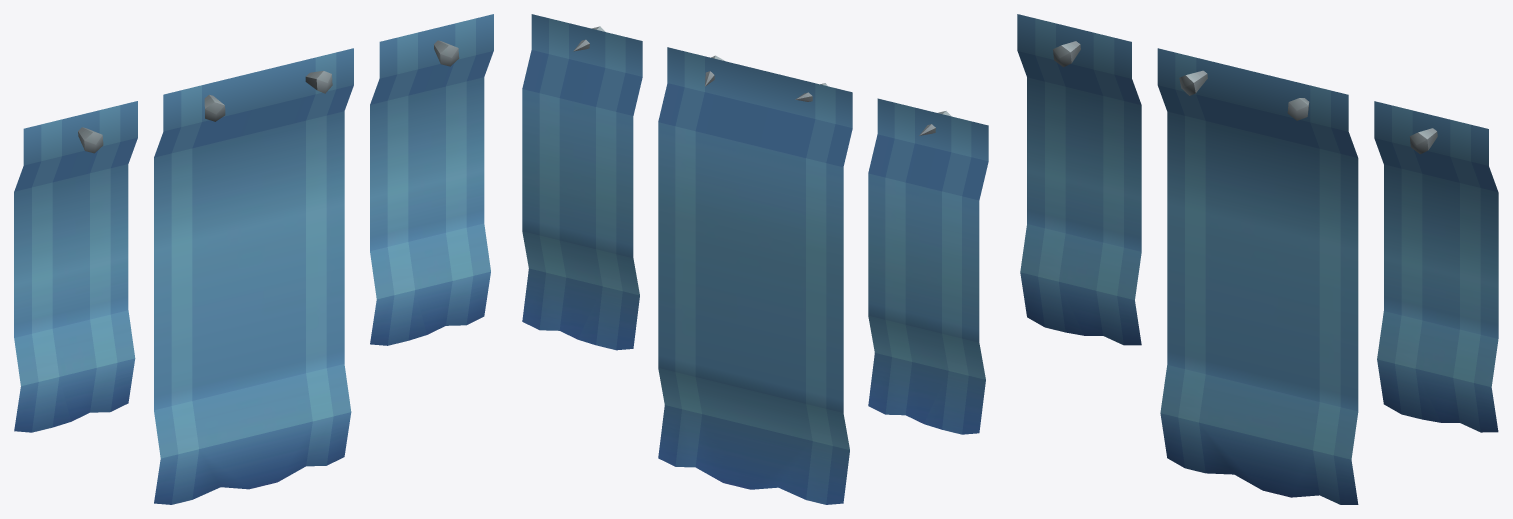
Rendered from banner_triple_blue.glb.
3 views of the same model, side by side, from view 1: azimuth 30°, elevation 25°; view 2: azimuth 150°, elevation 25°; view 3: azimuth 330°, elevation 25° (orthographic). The views are drawn at different scales.
Visible parts, largest first — view 1: banner_triple_blue; view 2: banner_triple_blue; view 3: banner_triple_blue.
Part boxes in pixels (<box>): banner_triple_blue: <box>14,14,493,504</box>; banner_triple_blue: <box>522,14,988,504</box>; banner_triple_blue: <box>1017,14,1498,504</box>.
Bounding box in the file's own units: 3.7 × 3.2 × 0.3622.
Materials: 1 (1 with a texture image).
